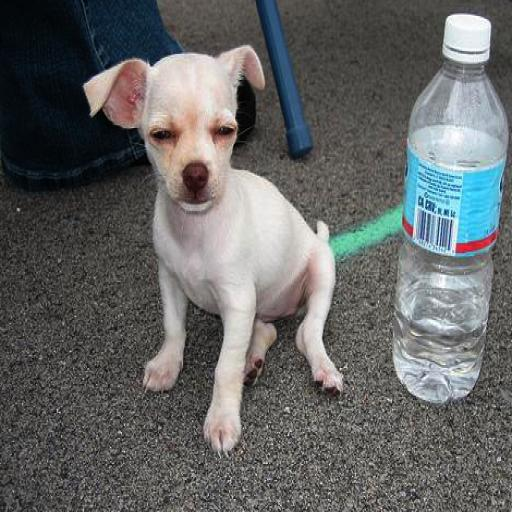dog_face: (94, 39, 248, 216)
